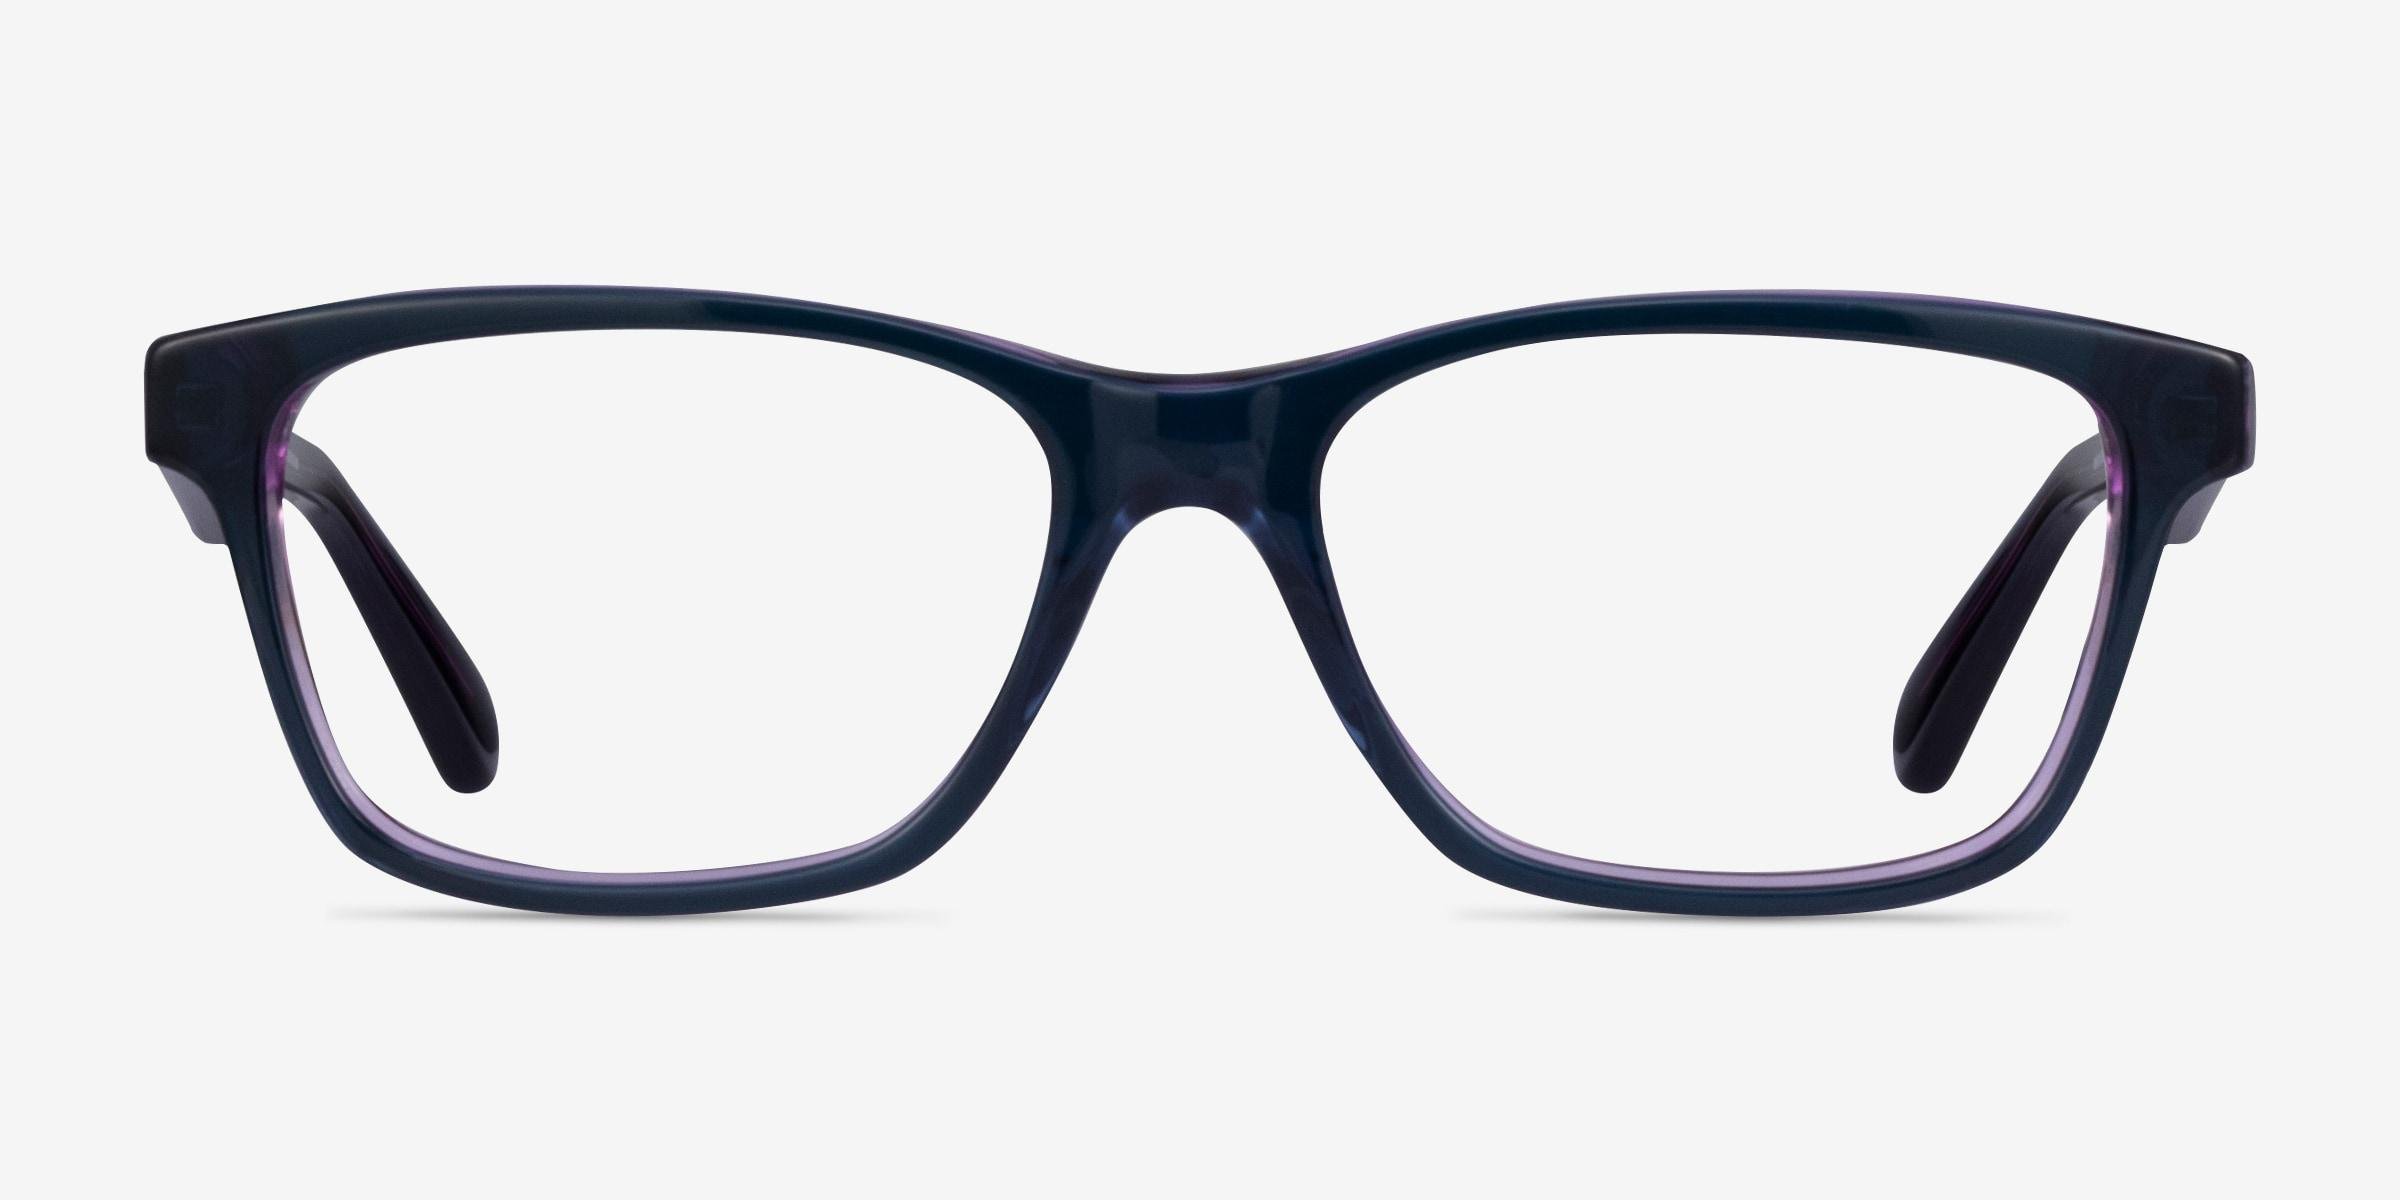Eye-glass: (129, 269, 2261, 928)
